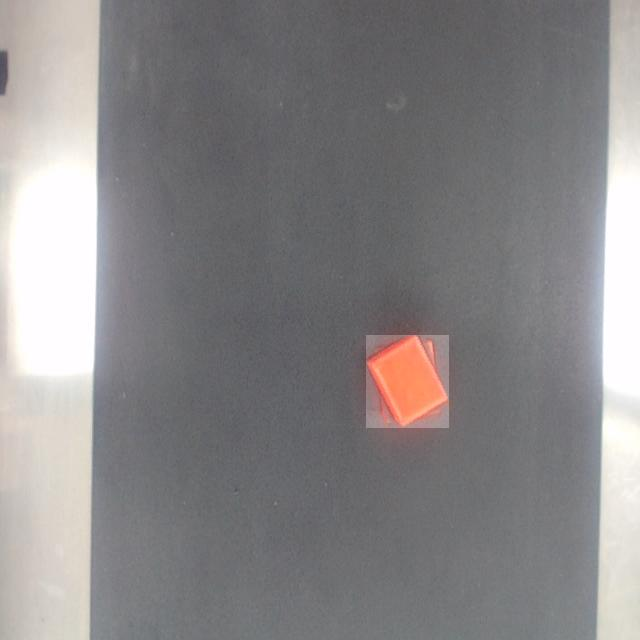Rojo: (366, 335, 449, 428)
